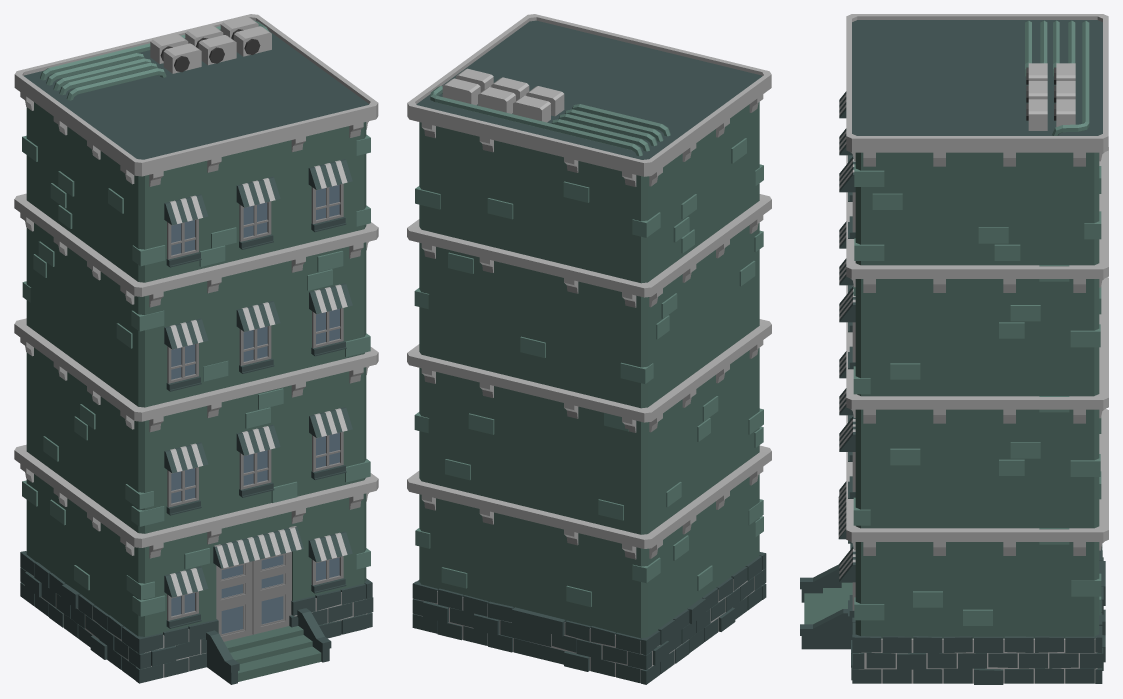
File: 4Story_Mat.glb
3 views of the same model, side by side, from view 1: azimuth 30°, elevation 25°; view 2: azimuth 150°, elevation 25°; view 3: azimuth 270°, elevation 25° (orthographic). The views are drawn at different scales.
Parts seen in each view (by area): view 1: 4Story_Mat; view 2: 4Story_Mat; view 3: 4Story_Mat.
Boxes of the visible parts, left/top/right/bottom form: 4Story_Mat: left=14, top=14, right=378, bottom=684; 4Story_Mat: left=407, top=14, right=771, bottom=684; 4Story_Mat: left=800, top=14, right=1108, bottom=684.
Bounding box in the file's own units: 2.42 × 5.09 × 2.53.
